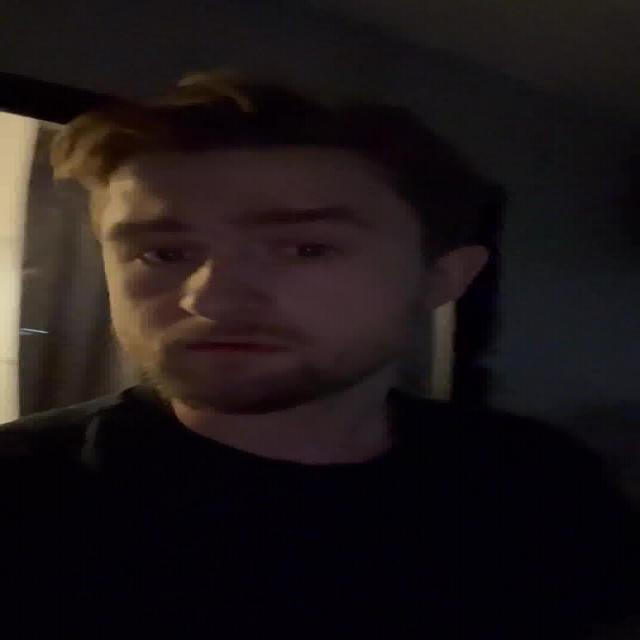earlobe: (416, 293, 444, 313)
eye: (275, 244, 338, 261), (134, 249, 199, 264)
nose: (185, 310, 274, 338)
wholeear: (416, 246, 488, 313)
